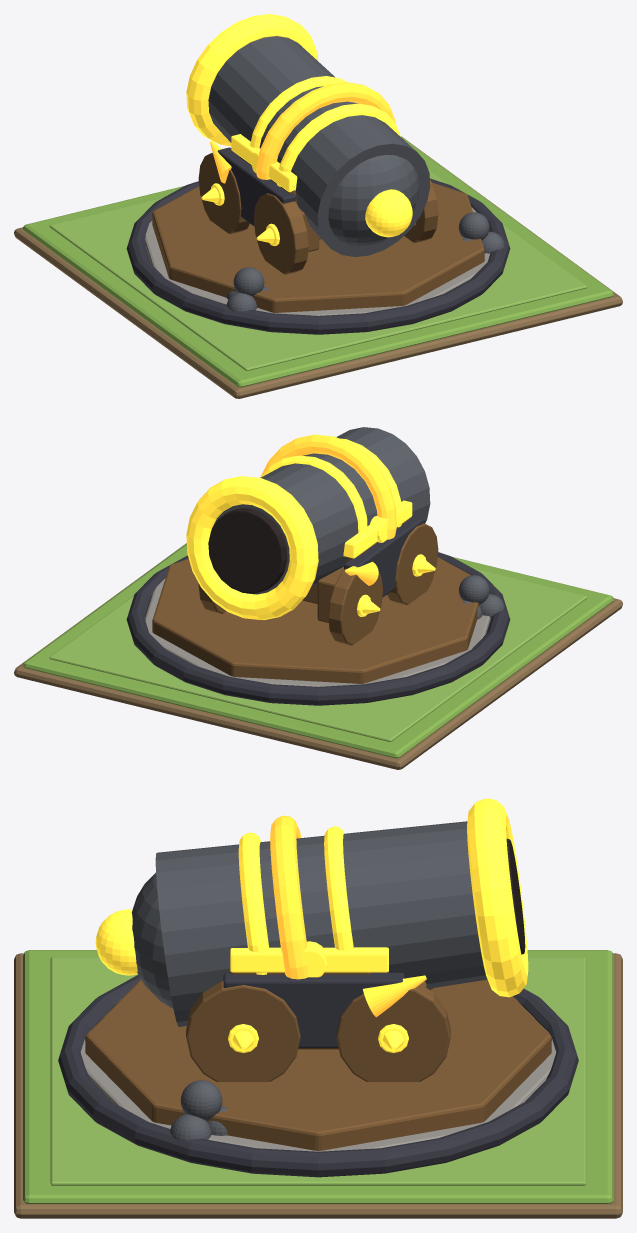
File: cannon_lv9.glb
3 renders of one model, top to bottom at view 1: azimuth 30°, elevation 25°; view 2: azimuth 150°, elevation 25°; view 3: azimuth 270°, elevation 25°, orthographic. The views are drawn at different scales.
Visible parts, largest first — view 1: TurntableWood, CannonBarrel, Base_Inner, Base_Grass, CN_BaseArmorRing, Base_Dirt, CannonBreech, MuzzleLip, CN_HeavyBreechRing, CannonWheel_-1_-1, TurntableStone, CannonWheel_-1_1 (+8 smaller); view 2: TurntableWood, Base_Inner, Base_Grass, CN_BaseArmorRing, CannonBarrel, MuzzleLip, Base_Dirt, BarrelBore, CN_HeavyBreechRing, CannonWheel_-1_1, TurntableStone, CannonWheel_-1_-1 (+7 smaller); view 3: TurntableWood, CannonBarrel, Base_Inner, Base_Grass, CN_BaseArmorRing, Base_Dirt, CannonWheel_1_-1, MuzzleLip, CannonWheel_1_1, CN_HeavyCheekShield_1, CN_HeavyBreechRing, TurntableStone (+10 smaller).
Boxes of the visible parts, x1=… form: TurntableWood: x1=152, y1=182, x2=484, y2=312; CannonBarrel: x1=208, y1=36, x2=430, y2=256; Base_Inner: x1=49, y1=170, x2=587, y2=370; Base_Grass: x1=23, y1=136, x2=613, y2=387; CN_BaseArmorRing: x1=126, y1=178, x2=510, y2=334; Base_Dirt: x1=14, y1=136, x2=622, y2=398; CannonBreech: x1=328, y1=155, x2=419, y2=246; MuzzleLip: x1=186, y1=14, x2=318, y2=146; CN_HeavyBreechRing: x1=256, y1=82, x2=395, y2=179; CannonWheel_-1_-1: x1=254, y1=193, x2=308, y2=274; TurntableStone: x1=145, y1=207, x2=489, y2=315; CannonWheel_-1_1: x1=198, y1=152, x2=249, y2=233; TurntableWood: x1=152, y1=557, x2=479, y2=683; Base_Inner: x1=49, y1=568, x2=587, y2=741; Base_Grass: x1=23, y1=543, x2=613, y2=758; CN_BaseArmorRing: x1=126, y1=552, x2=510, y2=705; CannonBarrel: x1=211, y1=427, x2=430, y2=594; MuzzleLip: x1=186, y1=476, x2=318, y2=619; Base_Dirt: x1=14, y1=543, x2=622, y2=769; BarrelBore: x1=208, y1=508, x2=287, y2=593; CN_HeavyBreechRing: x1=261, y1=434, x2=396, y2=539; CannonWheel_-1_1: x1=328, y1=568, x2=382, y2=645; TurntableStone: x1=145, y1=578, x2=490, y2=686; CannonWheel_-1_-1: x1=387, y1=523, x2=438, y2=604; TurntableWood: x1=85, y1=979, x2=551, y2=1150; CannonBarrel: x1=155, y1=821, x2=487, y2=1026; Base_Inner: x1=50, y1=957, x2=586, y2=1185; Base_Grass: x1=23, y1=950, x2=613, y2=1203; CN_BaseArmorRing: x1=58, y1=975, x2=578, y2=1177; Base_Dirt: x1=14, y1=953, x2=622, y2=1218; CannonWheel_1_-1: x1=186, y1=981, x2=300, y2=1081; MuzzleLip: x1=467, y1=798, x2=528, y2=997; CannonWheel_1_1: x1=336, y1=984, x2=450, y2=1081; CN_HeavyCheekShield_1: x1=223, y1=972, x2=404, y2=1047; CN_HeavyBreechRing: x1=270, y1=815, x2=307, y2=979; TurntableStone: x1=80, y1=999, x2=556, y2=1151.
Bounding box in the file's own units: 2.76 × 1.42 × 2.76.
